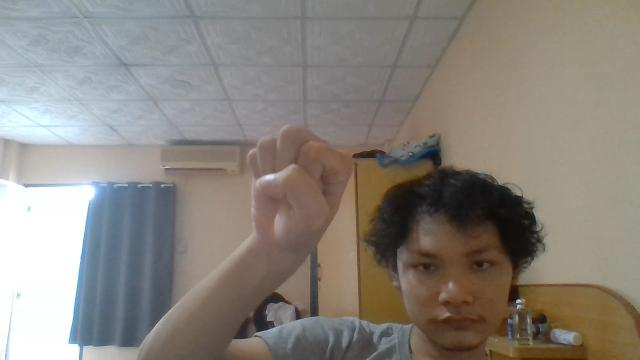forward: (242, 122, 356, 246)
